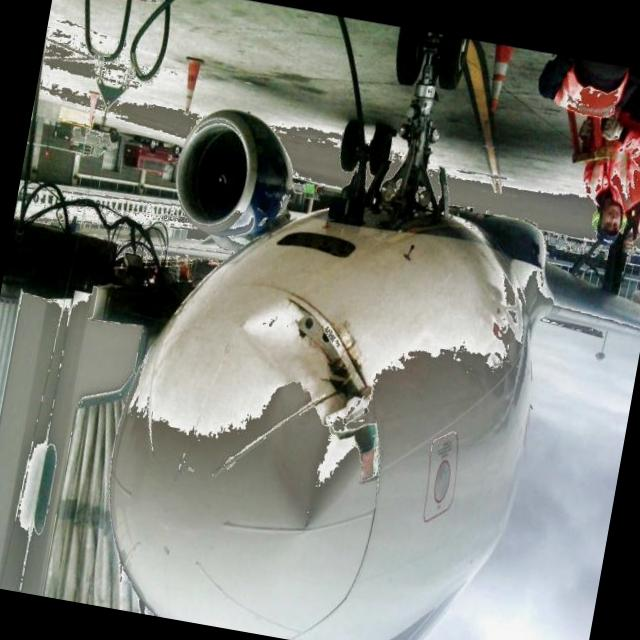dent: (243, 398, 367, 534)
